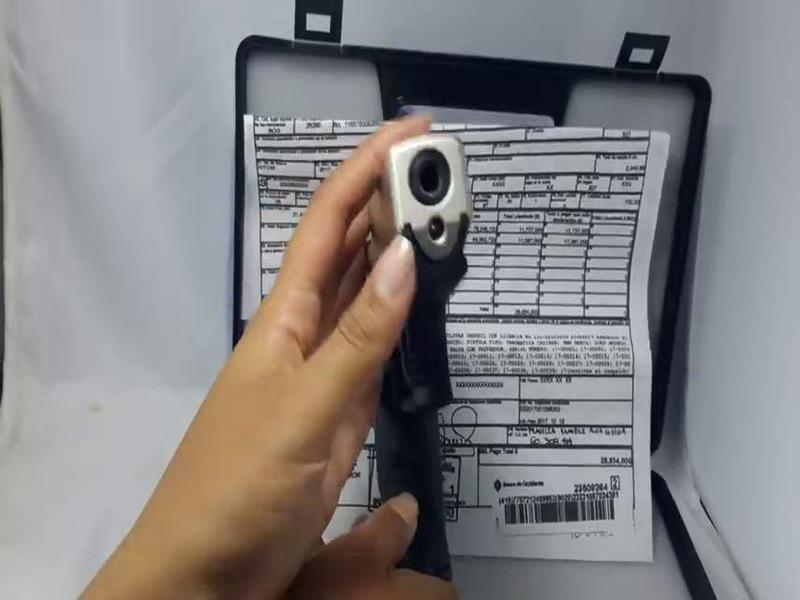Pistola: (337, 89, 477, 593)
